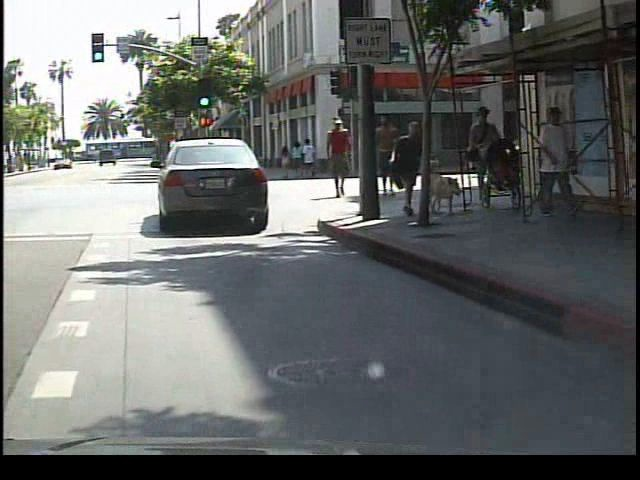person: (370, 108, 405, 203), (326, 114, 363, 202)
